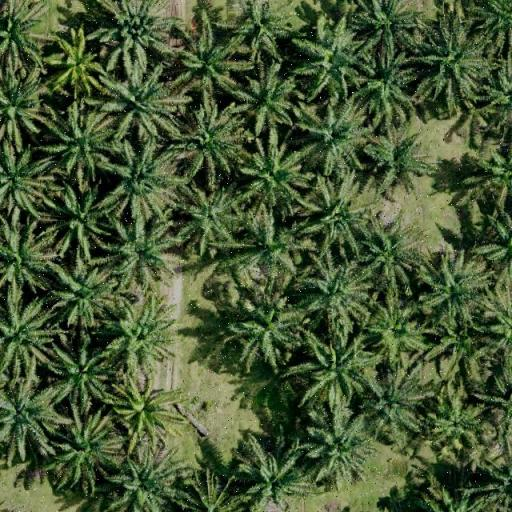Ganoderma: (121, 387, 168, 433), (57, 42, 102, 85)
